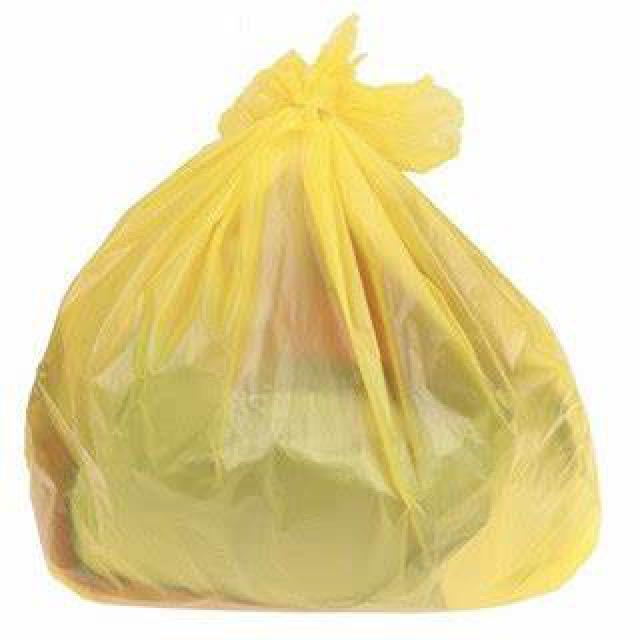waste: (31, 35, 589, 608)
